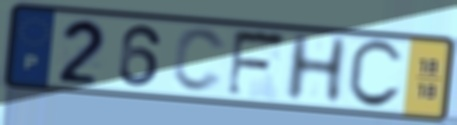2: (54, 15, 110, 89)
6: (117, 22, 164, 90)
C: (344, 37, 406, 112), (169, 26, 229, 96)
F: (224, 28, 291, 101)
H: (281, 32, 352, 104)
